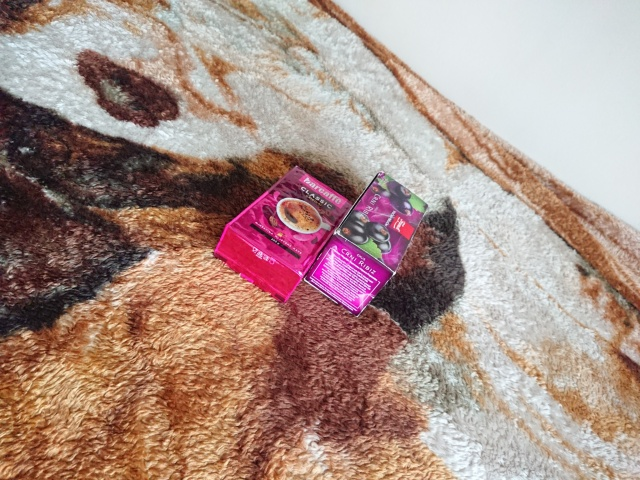Barcaffe Classic Original 225g: (210, 163, 357, 308)
Franck Black Currant Tea 60g: (301, 167, 431, 319)
